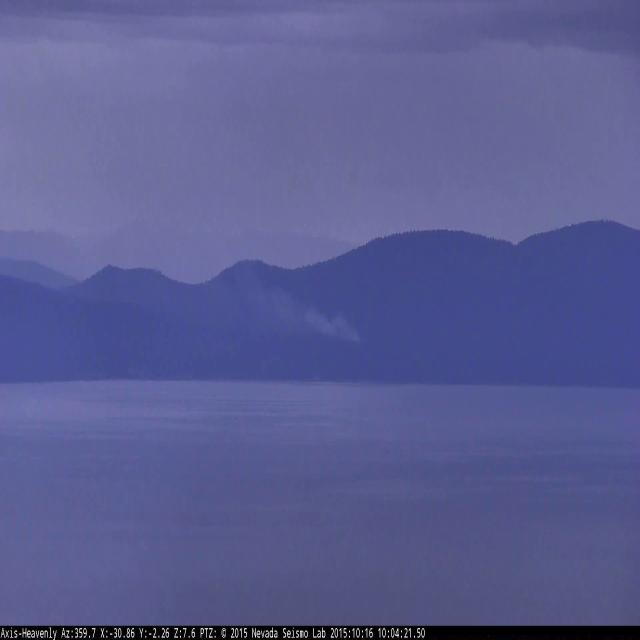smoke: (231, 256, 368, 341)
